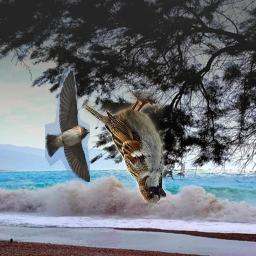Sparrow: (84, 91, 166, 203)
Swallow: (46, 68, 91, 182)
